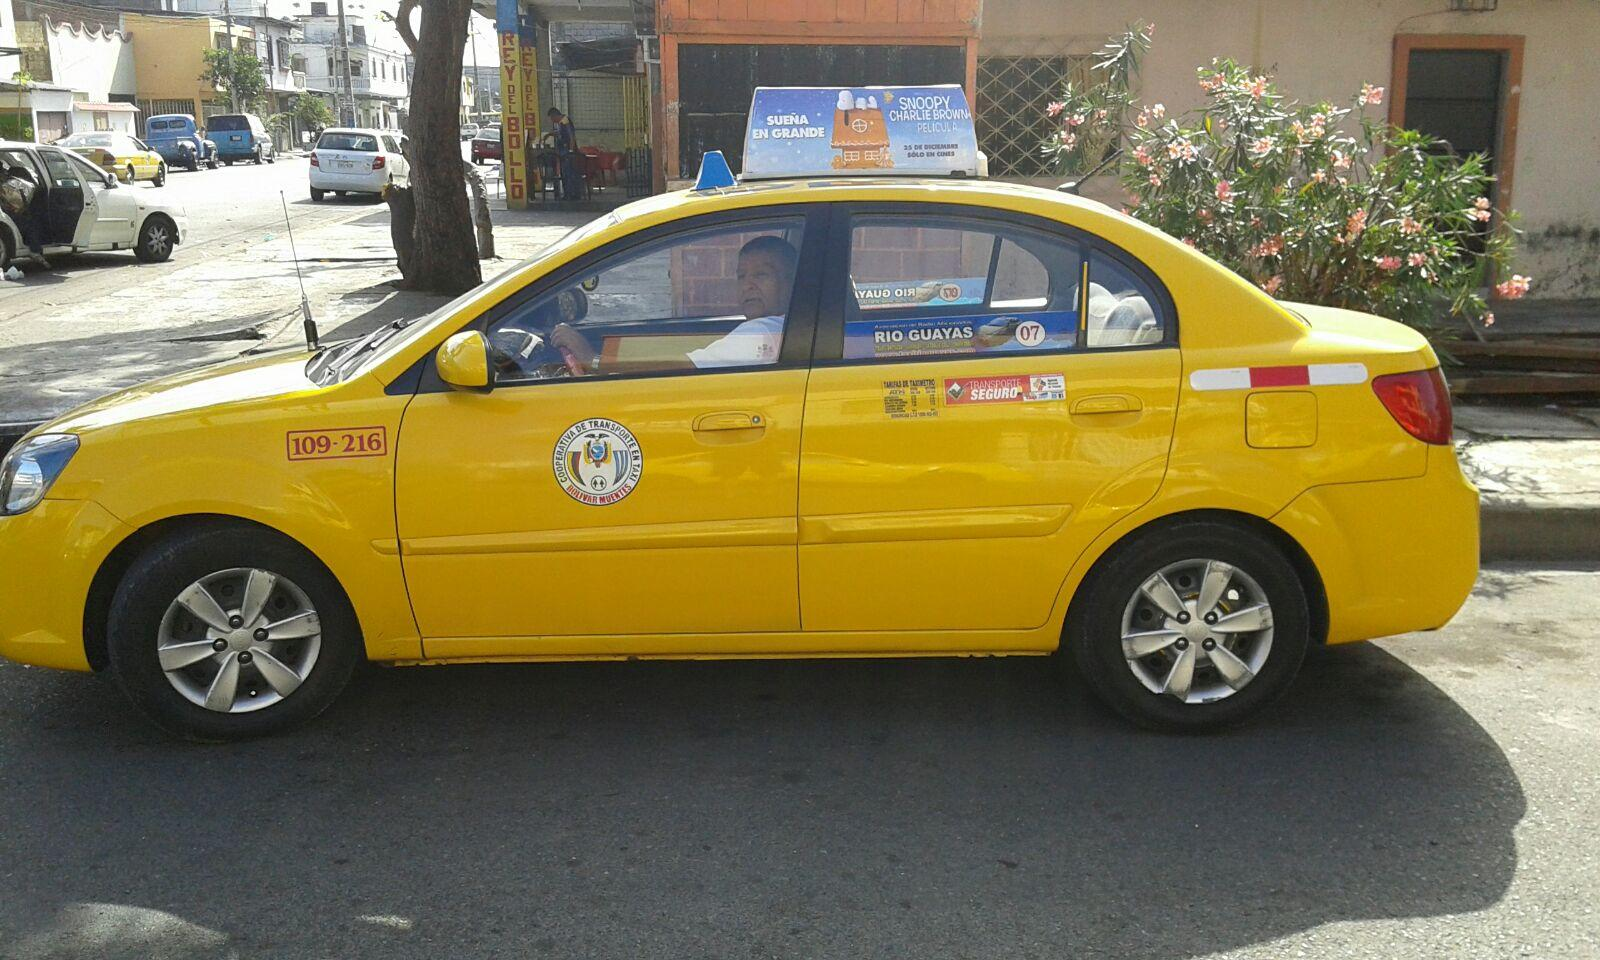taxi: (1, 197, 1600, 737)
